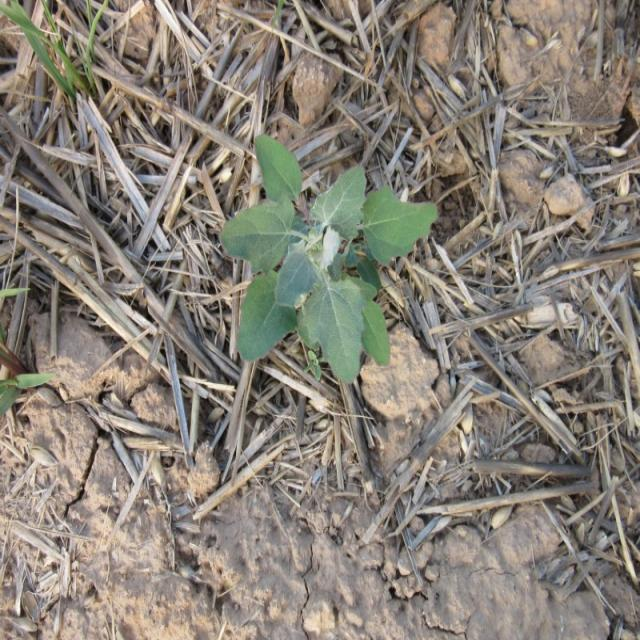ca: (226, 126, 440, 380)
